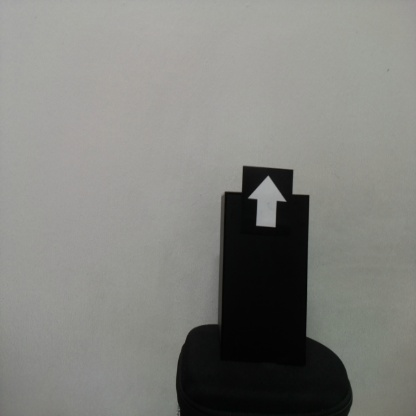id_1: (243, 167, 294, 245)
